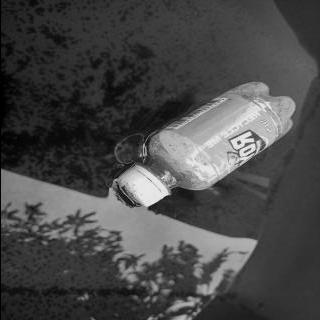bottle: (114, 79, 297, 208)
